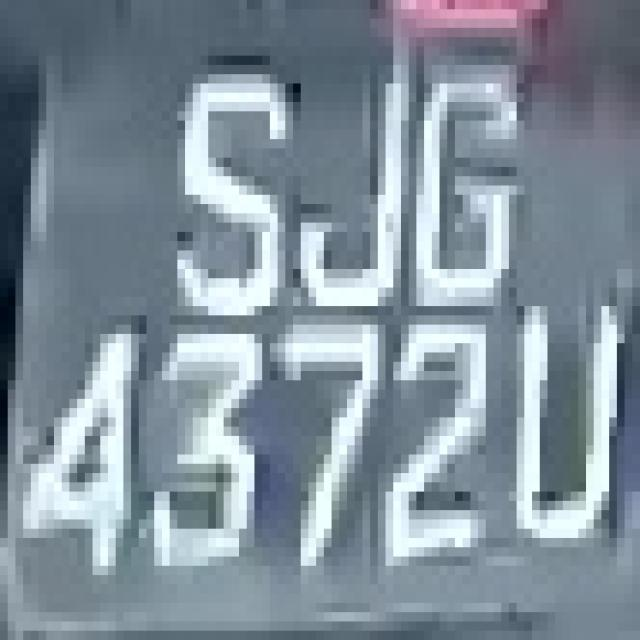2: (370, 306, 509, 584)
3: (139, 315, 270, 594)
4: (15, 306, 154, 603)
7: (239, 306, 378, 575)
G: (408, 46, 540, 325)
J: (293, 56, 424, 296)
S: (162, 56, 293, 343)
U: (509, 297, 624, 556)
